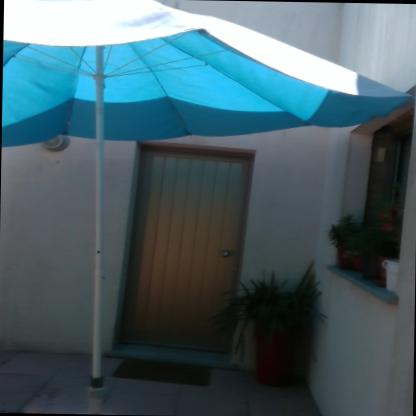closed: (101, 128, 266, 367)
